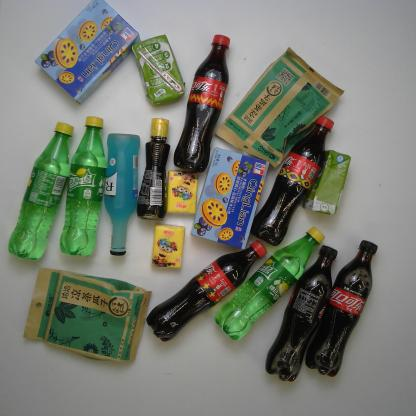Alcohol: (103, 125, 148, 262)
Dessert: (26, 1, 148, 110), (182, 134, 262, 252)
Dried Food: (224, 41, 352, 170), (19, 260, 158, 370)
Drink: (204, 221, 334, 342), (138, 233, 273, 349), (306, 236, 402, 384), (263, 240, 352, 396), (9, 116, 95, 269), (251, 110, 345, 249), (170, 29, 248, 172), (55, 113, 114, 263)
Milk: (127, 30, 189, 116), (306, 148, 368, 218)
Seasoner: (133, 105, 178, 227)
Tissue: (161, 164, 204, 220), (148, 215, 188, 269)
